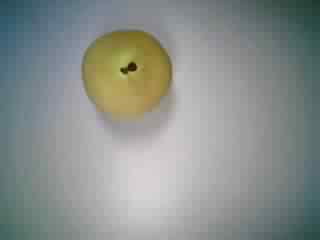pear: (68, 23, 182, 129)
